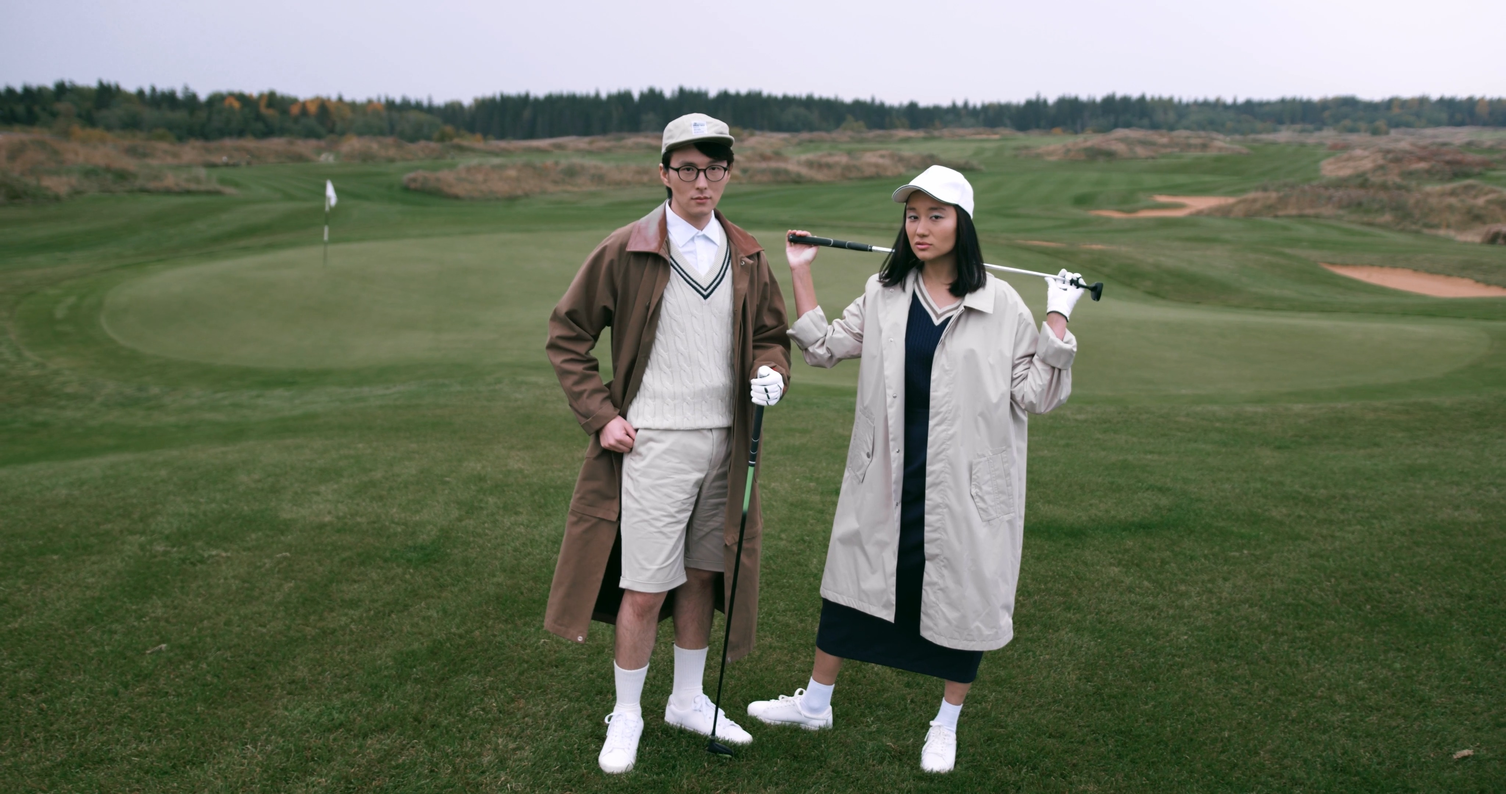No-gloves: (593, 399, 638, 471), (762, 225, 827, 265)
gloves: (741, 357, 805, 428), (1041, 263, 1086, 325)
